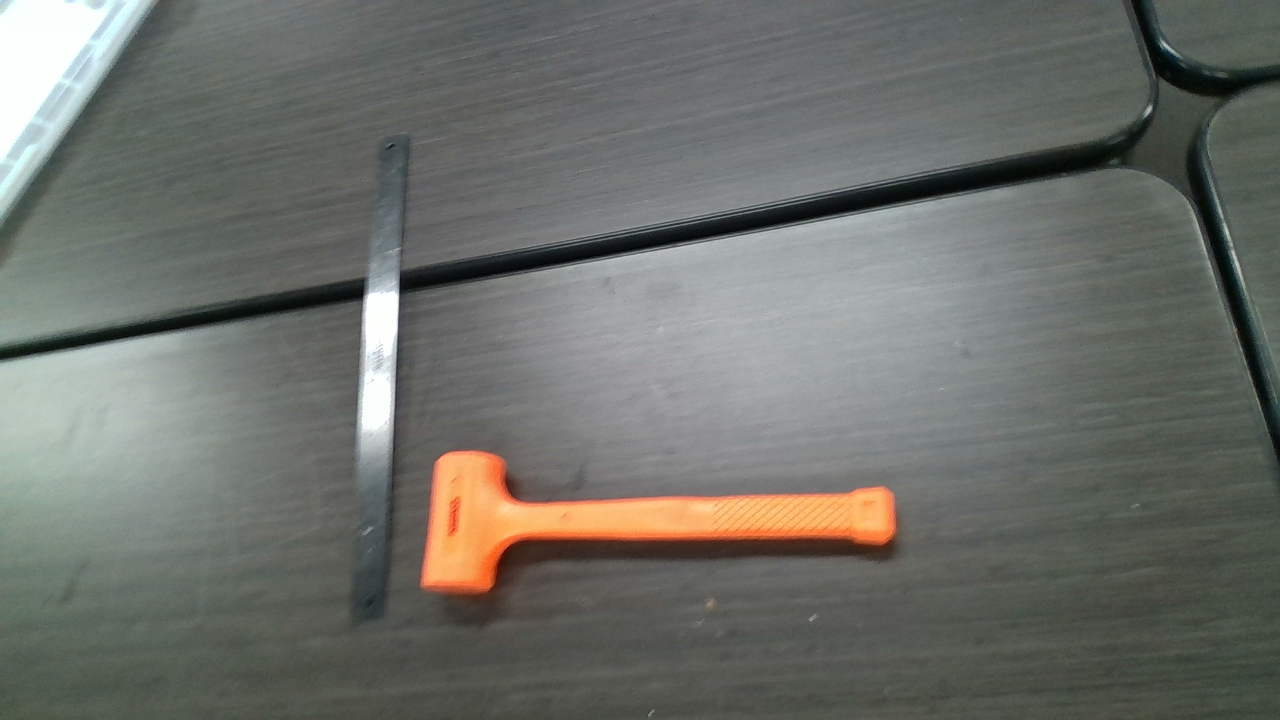Orange Hammer: (424, 453, 897, 591)
